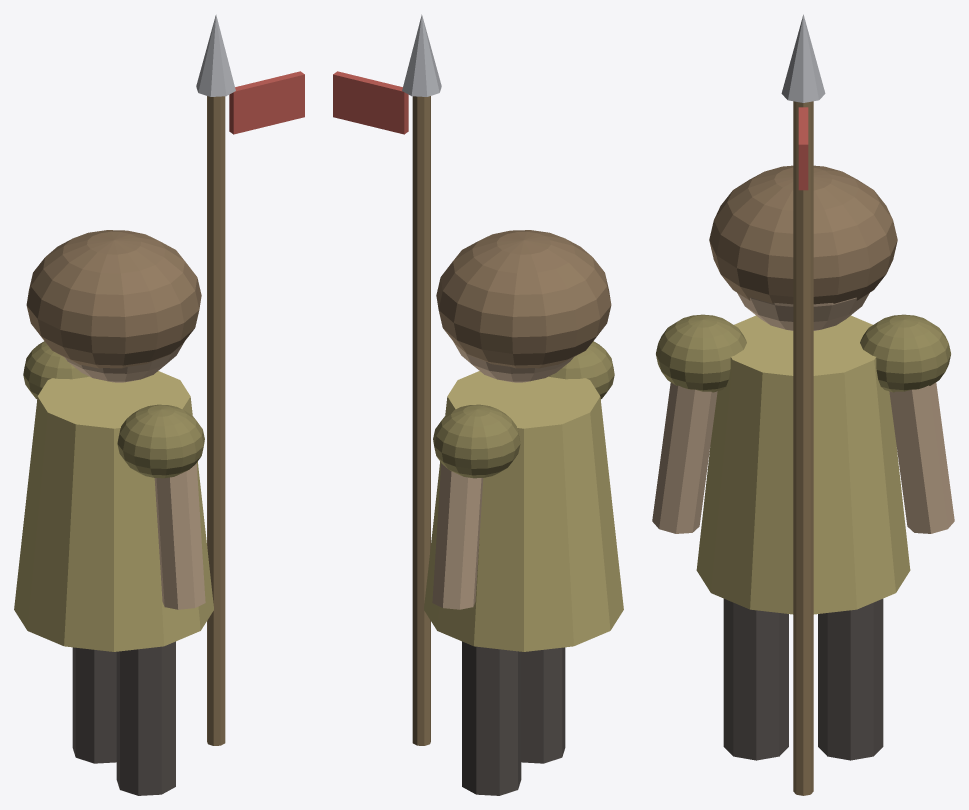
Rendered from hero_sarn_1.glb.
3 renders of one model, left to right at view 1: azimuth 30°, elevation 25°; view 2: azimuth 150°, elevation 25°; view 3: azimuth 270°, elevation 25°, orthographic. The views are drawn at different scales.
Visible parts, largest first — view 1: figurka; view 2: figurka; view 3: figurka.
Boxes of the visible parts, x1,y1,x2,y2 form: figurka: (14, 14, 304, 795); figurka: (333, 14, 623, 795); figurka: (652, 14, 954, 795).
Bounding box in the file's own units: 0.54 × 1.37 × 0.4814.
